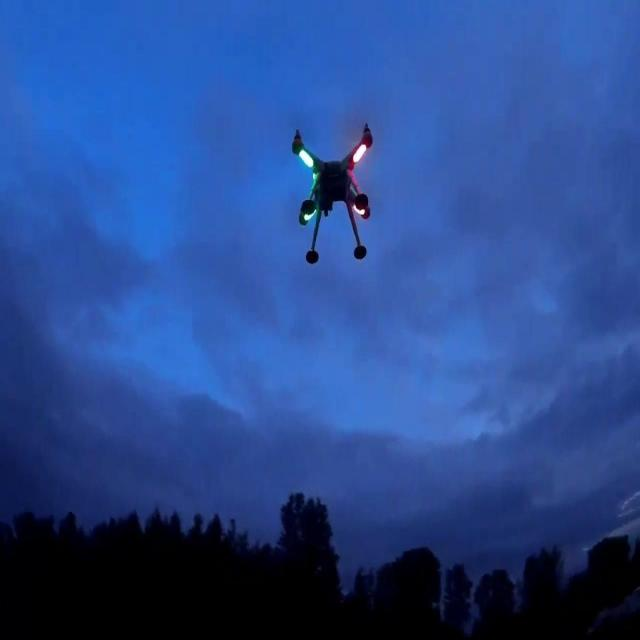UAV: (291, 123, 373, 264)
